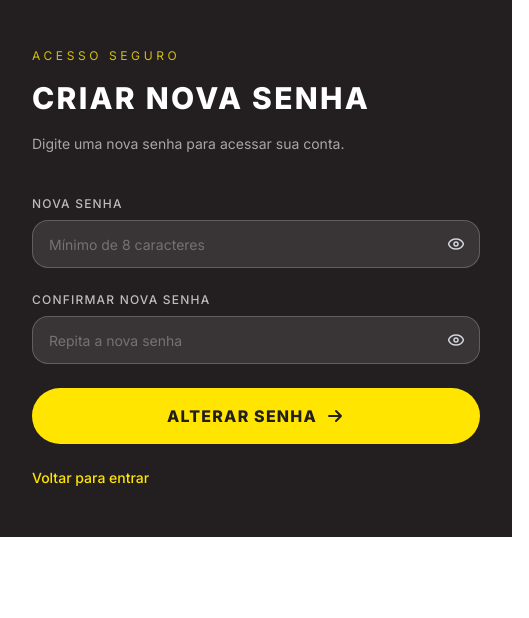
Test: AuthResetPasswordForm › validates password requirements before submitting
Type "1234567" into the password field labelled "Nova senha".
click(256, 244); type("1234567")  # box [32, 220, 480, 268]
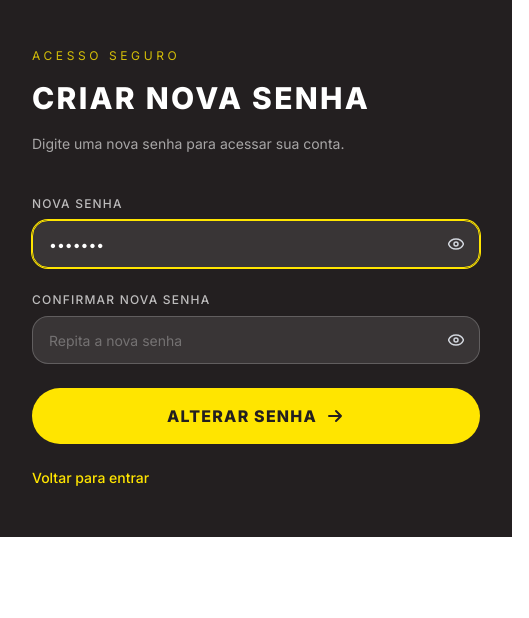
Type "7654321" into the password field labelled "Confirmar nova senha".
click(256, 340); type("7654321")  # box [32, 316, 480, 364]
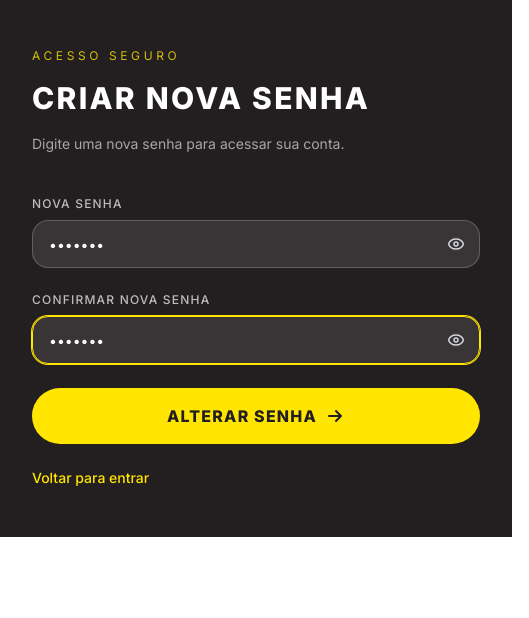
Click the button "Alterar senha".
click(256, 416)  # box [32, 388, 480, 444]
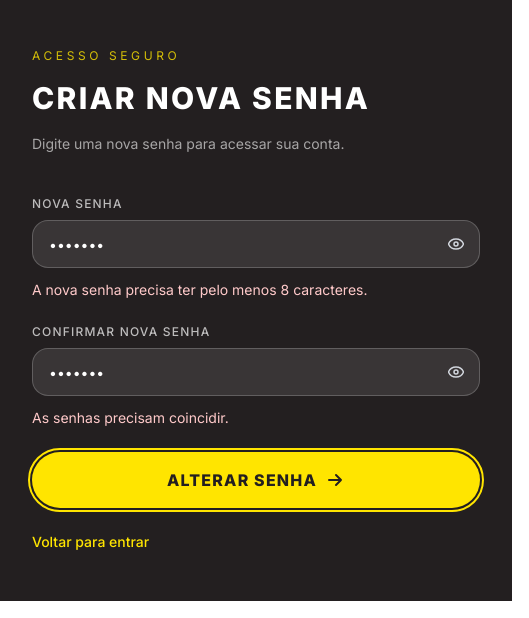
expect the text "A nova senha precisa ter pelo menos 8 caracteres." is shown: met, box [32, 281, 368, 298]
expect the text "As senhas precisam coincidir." is shown: met, box [32, 409, 229, 426]
